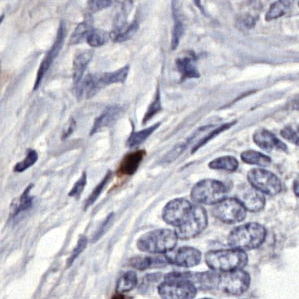Lymphocyte: (115, 149, 147, 176)
